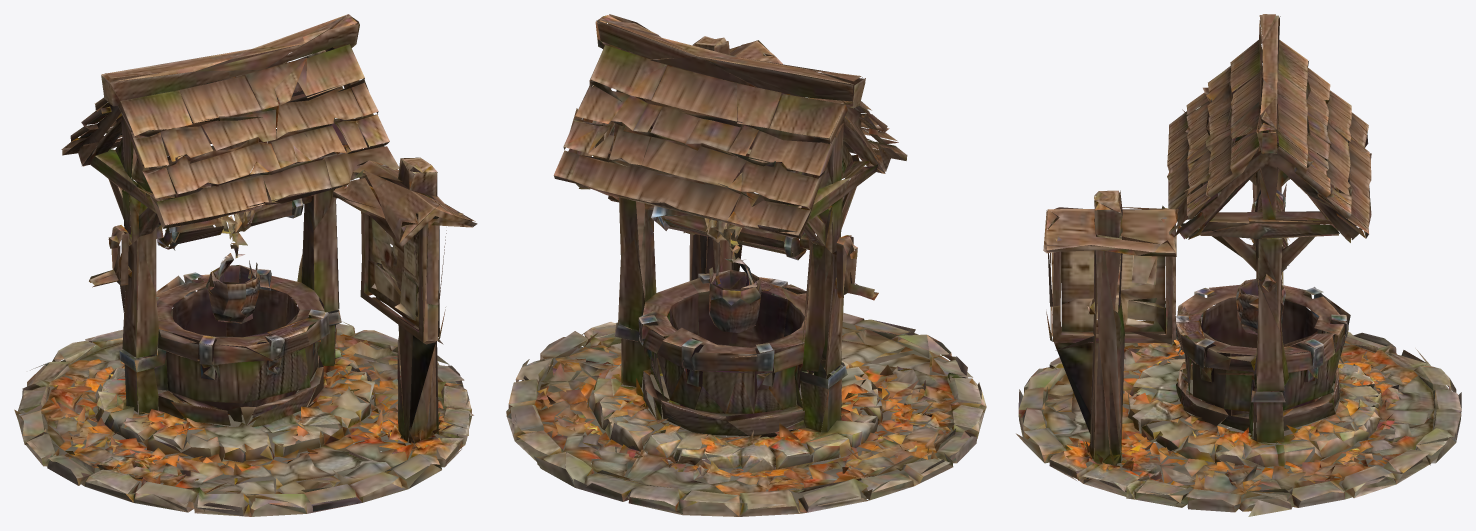
File: well.glb
3 renders of one model, left to right at view 1: azimuth 30°, elevation 25°; view 2: azimuth 150°, elevation 25°; view 3: azimuth 270°, elevation 25°, orthographic. The views are drawn at different scales.
Visible parts, largest first — view 1: Mesh_0; view 2: Mesh_0; view 3: Mesh_0.
Boxes of the visible parts, bbox=[...] form: Mesh_0: bbox=[14, 14, 477, 516]; Mesh_0: bbox=[506, 14, 986, 516]; Mesh_0: bbox=[1016, 14, 1461, 516].
Bounding box in the file's own units: 1.94 × 1.65 × 1.91.
1 material, 1 textured.
